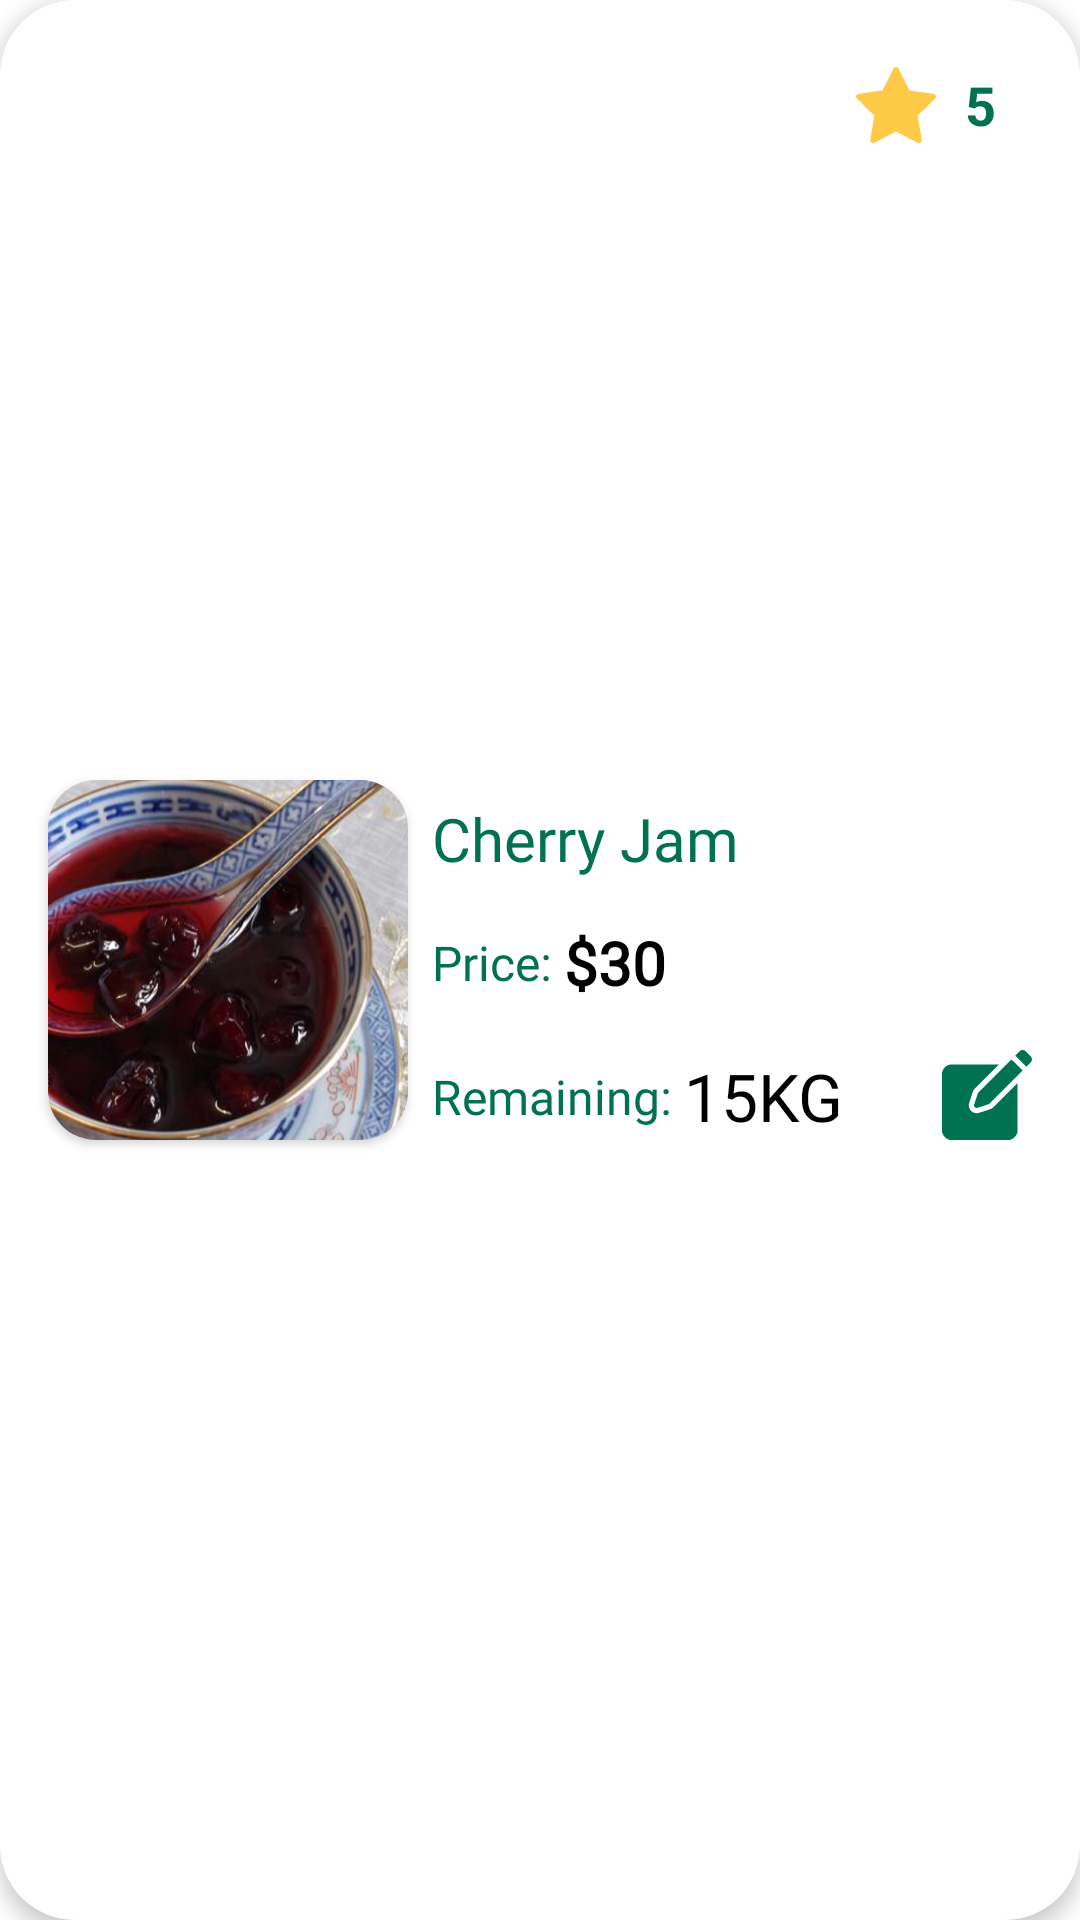

Where icons sit on this 1080w x 1920h app screen, as (x1, y1, x2, y2):
edit: (942, 1050, 1032, 1140)
